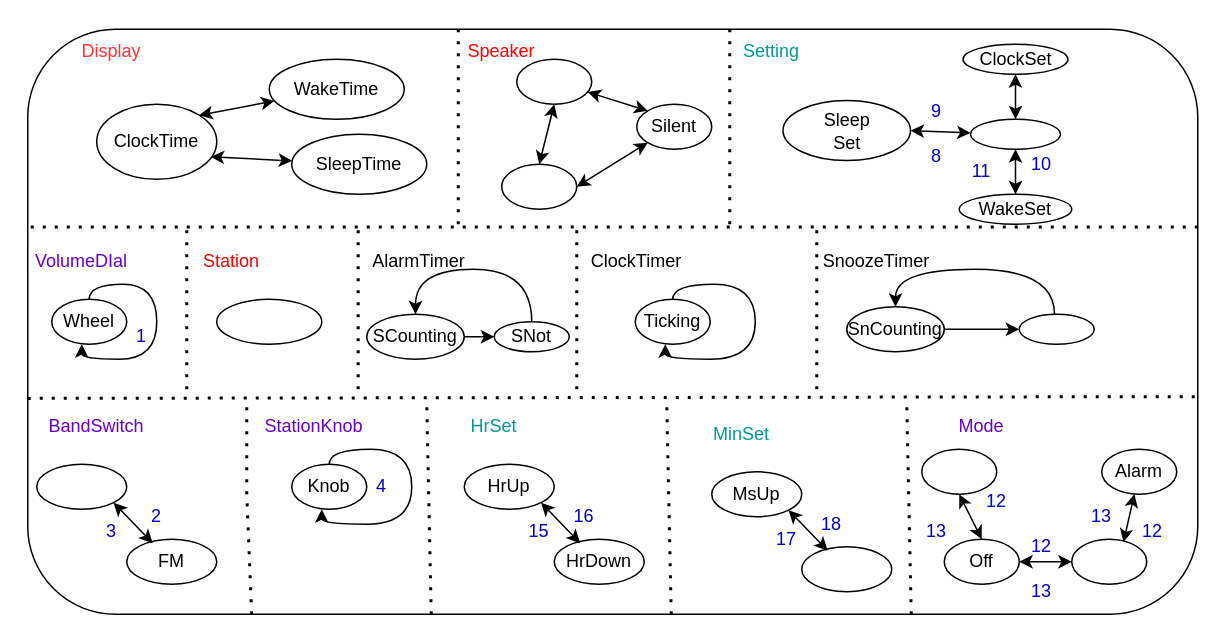
Some shapes in this 1227 by 644 pixel diagram are drawn without their labels. Here are the shapes that lost their labels. From the top down, the centre of each, then its label:
pixel 553 81: Beeping
pixel 1014 133: None
pixel 538 186: Playing
pixel 268 321: Frequency
pixel 1056 328: SnNot
pixel 81 486: AM
pixel 958 471: On
pixel 846 568: MsDown
pixel 1108 561: Music
